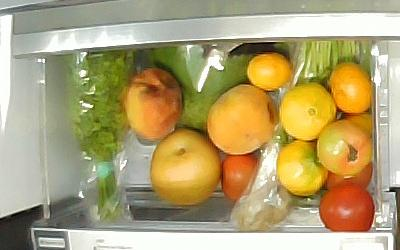peach: (209, 84, 274, 154), (126, 67, 183, 139)
pear: (150, 127, 220, 204)
tangerine: (279, 82, 336, 141), (276, 140, 327, 196), (328, 63, 374, 115), (247, 53, 291, 90), (345, 112, 374, 134)
tomato: (316, 119, 375, 178), (319, 185, 375, 233), (221, 153, 257, 202), (325, 162, 374, 187)
